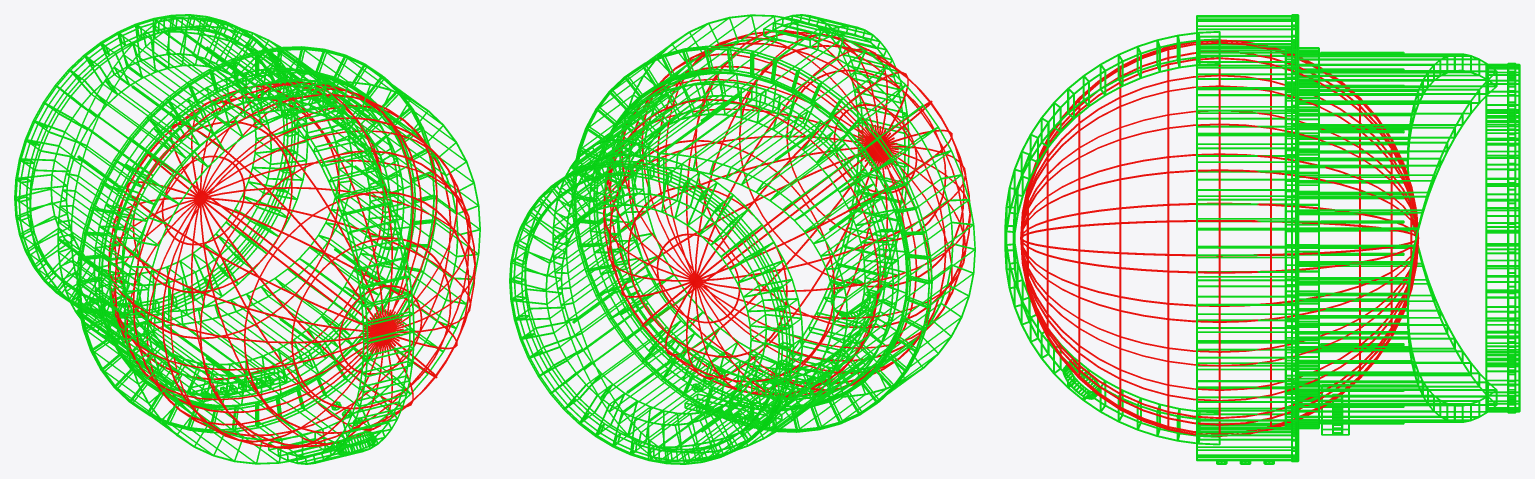
The model's file is missile-guidance-system-highlight-holographic-sphere.glb.
3 views of the same model, side by side, from view 1: azimuth 30°, elevation 25°; view 2: azimuth 150°, elevation 25°; view 3: azimuth 270°, elevation 25° (orthographic). The views are drawn at different scales.
Visible parts, largest first — view 1: targeting-io technical wire, holographic-sphere technical wire, armoured-computer-casing technical wire, chassis technical wire; view 2: armoured-computer-casing technical wire, targeting-io technical wire, holographic-sphere technical wire, chassis technical wire; view 3: armoured-computer-casing technical wire, targeting-io technical wire, holographic-sphere technical wire, chassis technical wire.
Boxes of the visible parts, left/top/right/bottom form: targeting-io technical wire: left=76, top=46, right=480, bottom=464; holographic-sphere technical wire: left=108, top=81, right=475, bottom=449; armoured-computer-casing technical wire: left=57, top=17, right=414, bottom=406; chassis technical wire: left=14, top=14, right=308, bottom=324; armoured-computer-casing technical wire: left=552, top=73, right=909, bottom=461; targeting-io technical wire: left=571, top=14, right=975, bottom=432; holographic-sphere technical wire: left=603, top=29, right=970, bottom=397; chassis technical wire: left=509, top=154, right=803, bottom=464; armoured-computer-casing technical wire: left=1284, top=47, right=1497, bottom=429; targeting-io technical wire: left=1004, top=14, right=1349, bottom=464; holographic-sphere technical wire: left=1020, top=39, right=1419, bottom=437; chassis technical wire: left=1485, top=62, right=1520, bottom=413.
Bounding box in the file's own units: 2.17 × 2.17 × 2.5.
